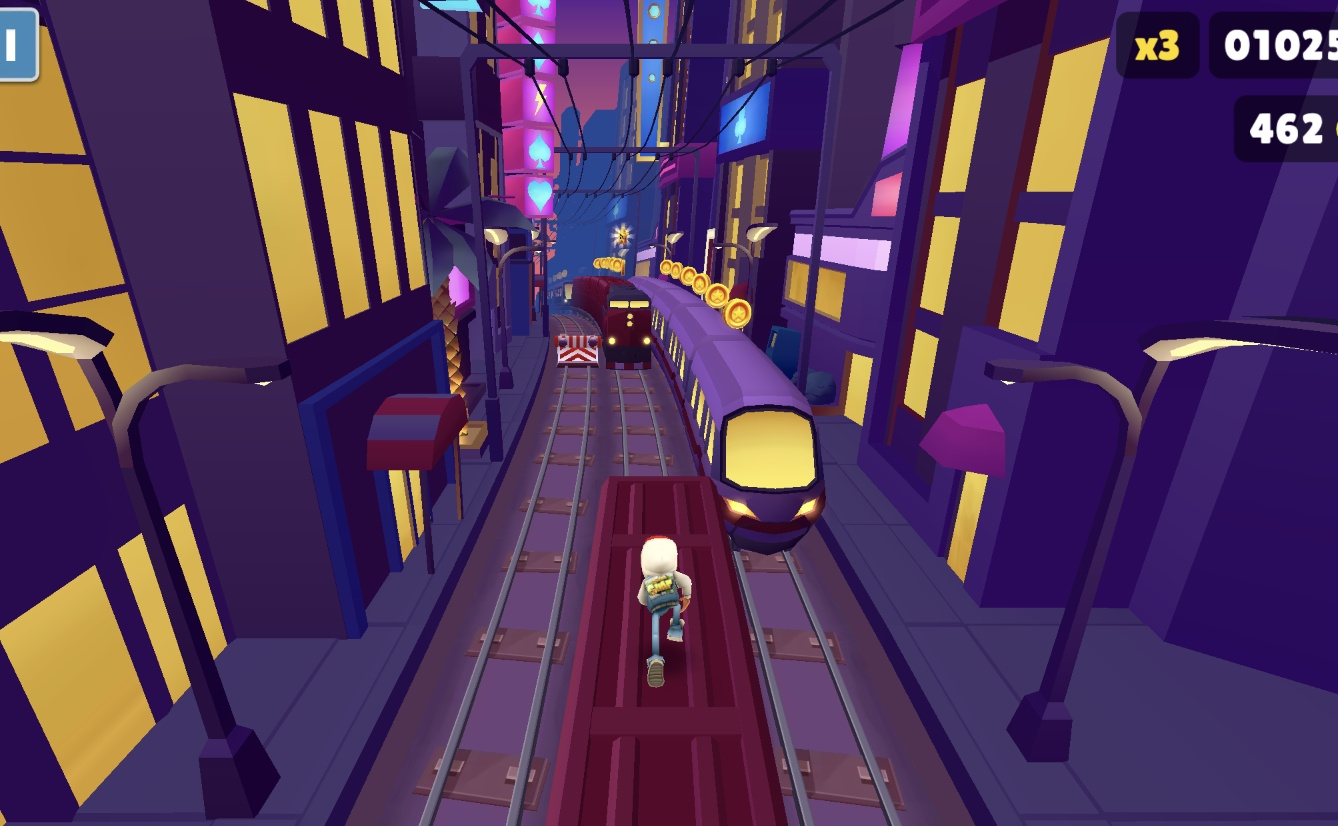ground_barrier: (554, 332, 599, 364)
train: (569, 477, 796, 826), (657, 307, 841, 556), (582, 275, 654, 362)
